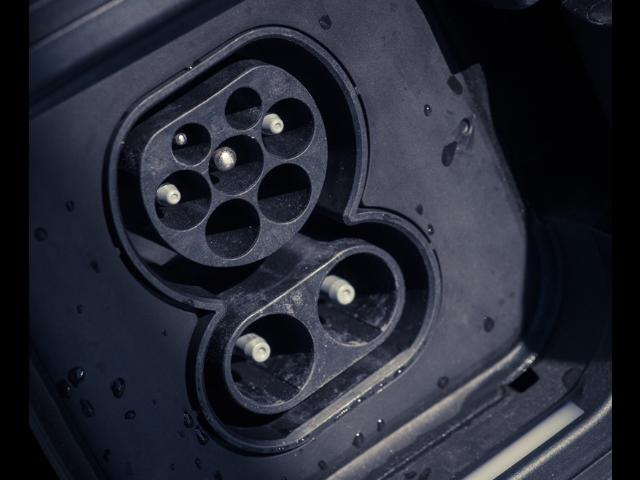inlet: (140, 65, 327, 267)
inlet-above-left: (170, 123, 210, 165)
inlet-above-right: (224, 87, 261, 130)
inlet-below-left: (204, 199, 261, 260)
inlet-below-right: (257, 163, 312, 225)
inlet-circle: (208, 134, 264, 195)
inlet-circle-left: (153, 170, 212, 232)
inlet-circle-right: (261, 97, 314, 159)
inlet-minus: (317, 251, 396, 345)
inlet-plus: (230, 313, 314, 406)
